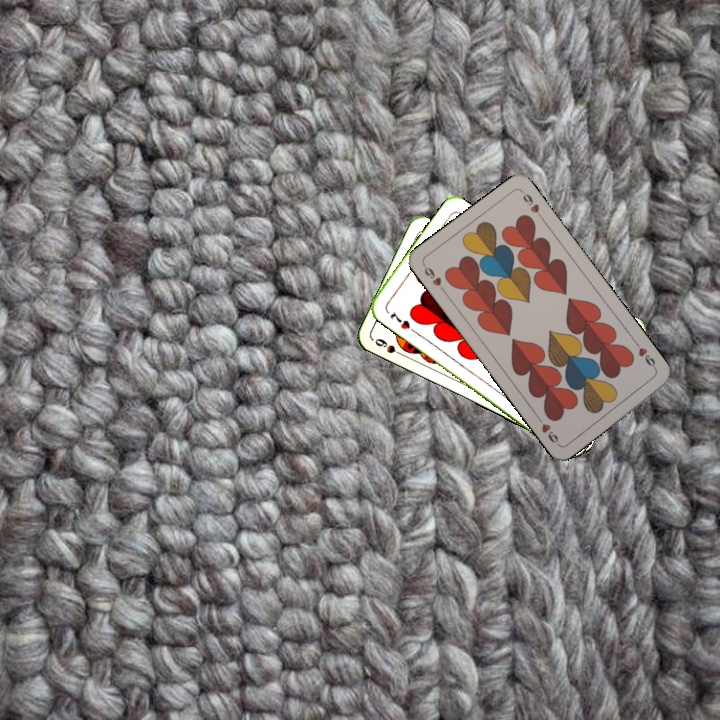H7: (386, 307, 418, 335)
H9: (631, 338, 660, 373), (419, 261, 448, 295)
S9: (371, 334, 408, 359)
